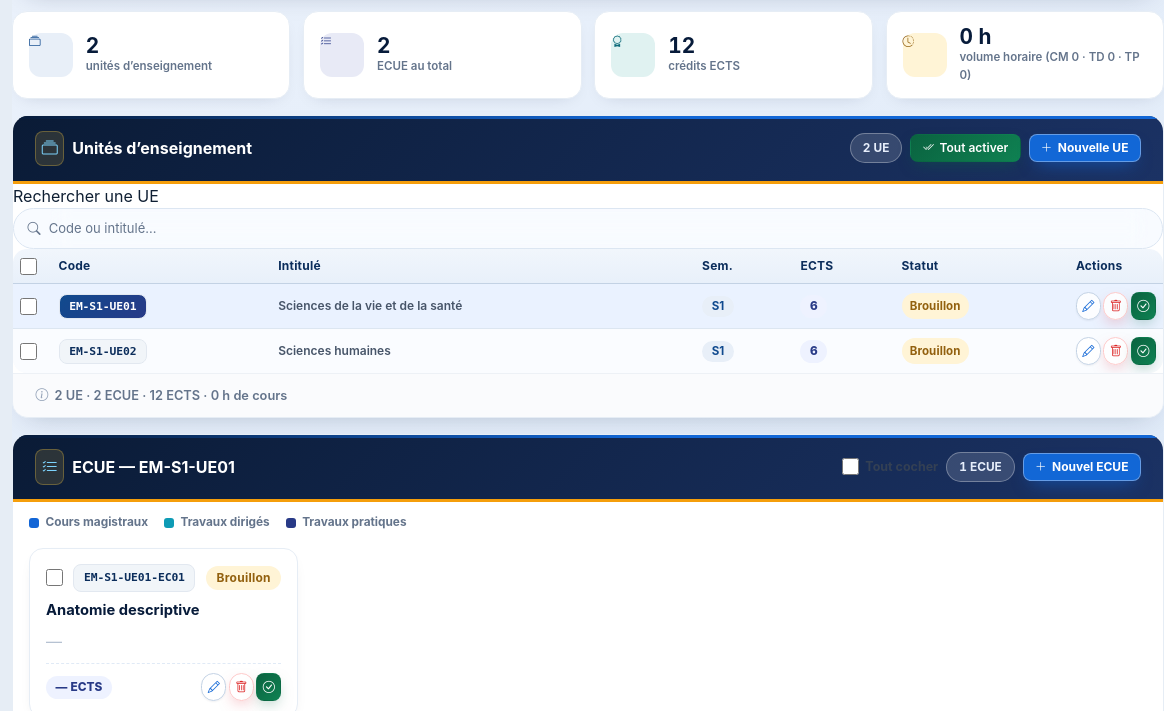
it: sélection d’une UE › ouvre les ECUE de l’UE choisie au clavier, via un bouton nommé
(page scrolled)
Click the button with aria-label "Afficher les ECUE de l’UE EM-S1-UE02".
click(103, 351)  # box 59,339 -> 147,364
(page scrolled)
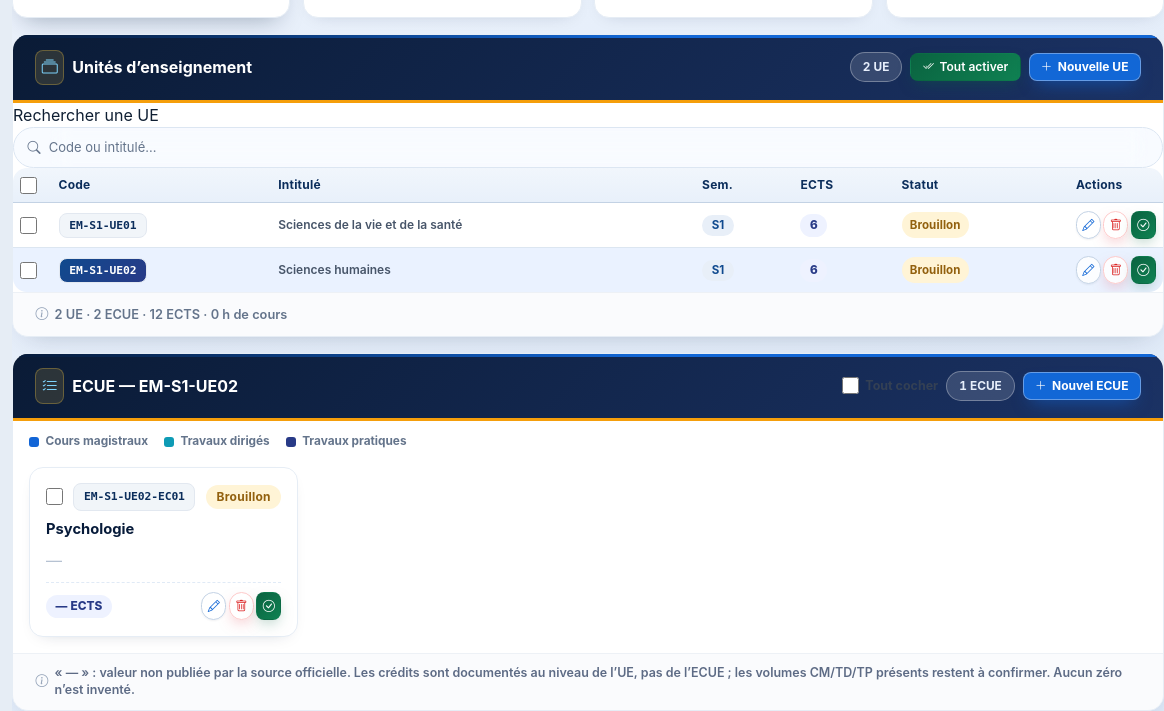
Result: the element with test id "ligne-ecue-200" is shown at 29,467 -> 298,637
